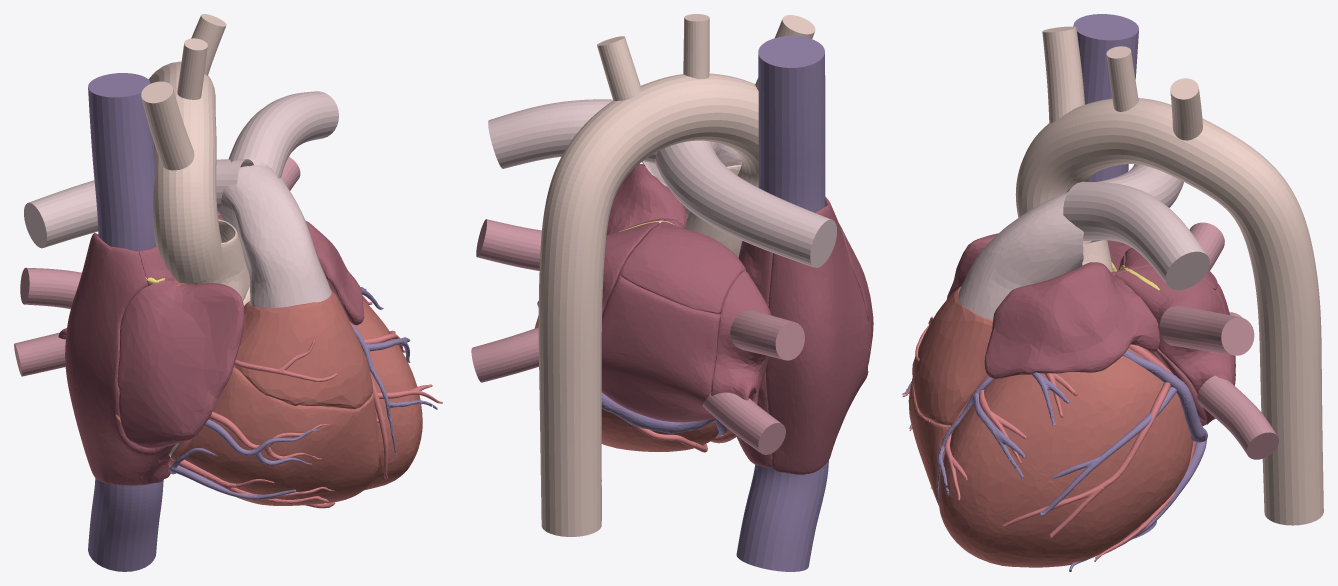
Rendered from coracao.glb.
The picture shows the model from 3 angles, left to right: view 1: azimuth 30°, elevation 25°; view 2: azimuth 150°, elevation 25°; view 3: azimuth 270°, elevation 25°; orthographic projection. The views are drawn at different scales.
Parts seen in each view (by area): view 1: Aurícula direita, Parede do ventrículo direito (via de entrada), Parede lateral do átrio direito, Infundíbulo do VD (via de saída), Veia cava superior, Arco aórtico e aorta descendente, Tronco pulmonar, Veia cava inferior, Artéria pulmonar esquerda, Parede livre do ventrículo esquerdo, Artéria pulmonar direita, Tronco braquiocefálico (+13 smaller); view 2: Arco aórtico e aorta descendente, Parede lateral do átrio direito, Parede posterior do átrio esquerdo, Veia cava superior, Artéria pulmonar direita, Veia cava inferior, Parede superior do átrio esquerdo, Artéria pulmonar esquerda, Septo interatrial (face do AE), Aurícula esquerda, Veia pulmonar inferior direita, Veia pulmonar superior direita (+12 smaller); view 3: Arco aórtico e aorta descendente, Parede livre do ventrículo esquerdo, Aurícula esquerda, Artéria pulmonar esquerda, Tronco pulmonar, Infundíbulo do VD (via de saída), Parede lateral do átrio esquerdo, Veia cava superior, Veia pulmonar superior esquerda, Veia pulmonar inferior esquerda, Veia cardíaca magna, Tronco braquiocefálico (+17 smaller).
Part boxes in pixels (left/top/right/bottom): Aurícula direita: left=117, top=280, right=244, bottom=448; Parede do ventrículo direito (via de entrada): left=183, top=367, right=378, bottom=505; Parede lateral do átrio direito: left=65, top=233, right=154, bottom=485; Infundíbulo do VD (via de saída): left=234, top=289, right=372, bottom=408; Veia cava superior: left=88, top=73, right=156, bottom=251; Arco aórtico e aorta descendente: left=148, top=61, right=222, bottom=283; Tronco pulmonar: left=219, top=165, right=331, bottom=307; Veia cava inferior: left=88, top=478, right=163, bottom=571; Artéria pulmonar esquerda: left=228, top=91, right=338, bottom=178; Parede livre do ventrículo esquerdo: left=350, top=299, right=422, bottom=490; Artéria pulmonar direita: left=24, top=159, right=253, bottom=248; Tronco braquiocefálico: left=141, top=81, right=194, bottom=170; Arco aórtico e aorta descendente: left=538, top=73, right=758, bottom=536; Parede lateral do átrio direito: left=765, top=197, right=869, bottom=474; Parede posterior do átrio esquerdo: left=601, top=277, right=720, bottom=422; Veia cava superior: left=758, top=36, right=825, bottom=212; Artéria pulmonar direita: left=655, top=140, right=836, bottom=267; Veia cava inferior: left=736, top=460, right=828, bottom=571; Parede superior do átrio esquerdo: left=620, top=219, right=745, bottom=313; Artéria pulmonar esquerda: left=488, top=99, right=657, bottom=168; Septo interatrial (face do AE): left=711, top=271, right=771, bottom=404; Aurícula esquerda: left=606, top=164, right=686, bottom=234; Veia pulmonar inferior direita: left=702, top=392, right=785, bottom=454; Veia pulmonar superior direita: left=719, top=310, right=804, bottom=360; Arco aórtico e aorta descendente: left=1015, top=98, right=1323, bottom=525; Parede livre do ventrículo esquerdo: left=938, top=347, right=1193, bottom=567; Aurícula esquerda: left=984, top=262, right=1159, bottom=378; Artéria pulmonar esquerda: left=1063, top=181, right=1209, bottom=290; Tronco pulmonar: left=958, top=192, right=1083, bottom=319; Infundíbulo do VD (via de saída): left=912, top=286, right=992, bottom=425; Parede lateral do átrio esquerdo: left=1114, top=266, right=1235, bottom=424; Veia cava superior: left=1073, top=14, right=1138, bottom=181; Veia pulmonar superior esquerda: left=1159, top=306, right=1254, bottom=355; Veia pulmonar inferior esquerda: left=1197, top=375, right=1278, bottom=459; Veia cardíaca magna: left=937, top=350, right=1204, bottom=500; Tronco braquiocefálico: left=1042, top=26, right=1084, bottom=123.
Size of the model in its own units: 0.122 by 0.1842 by 0.1347.
